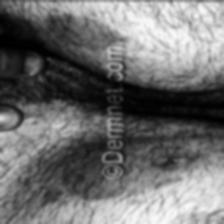Toxin: (162, 156, 192, 168)
